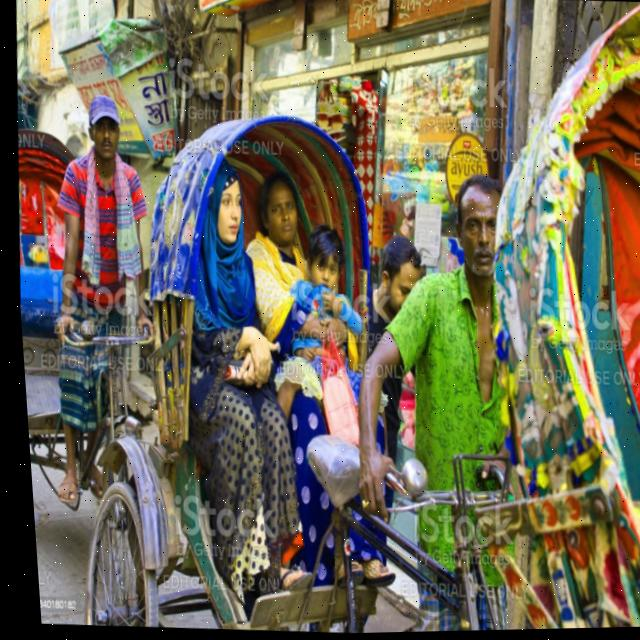rikshaw: (33, 84, 551, 640), (5, 101, 180, 600)
